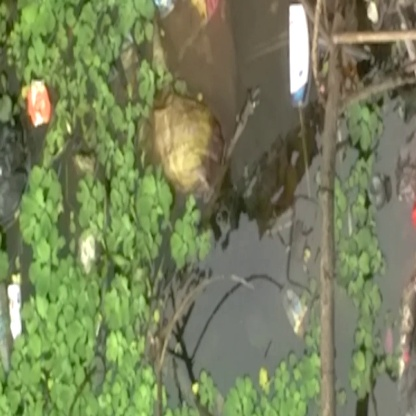bottle: (277, 2, 316, 106)
plastic-bag: (141, 92, 229, 207)
